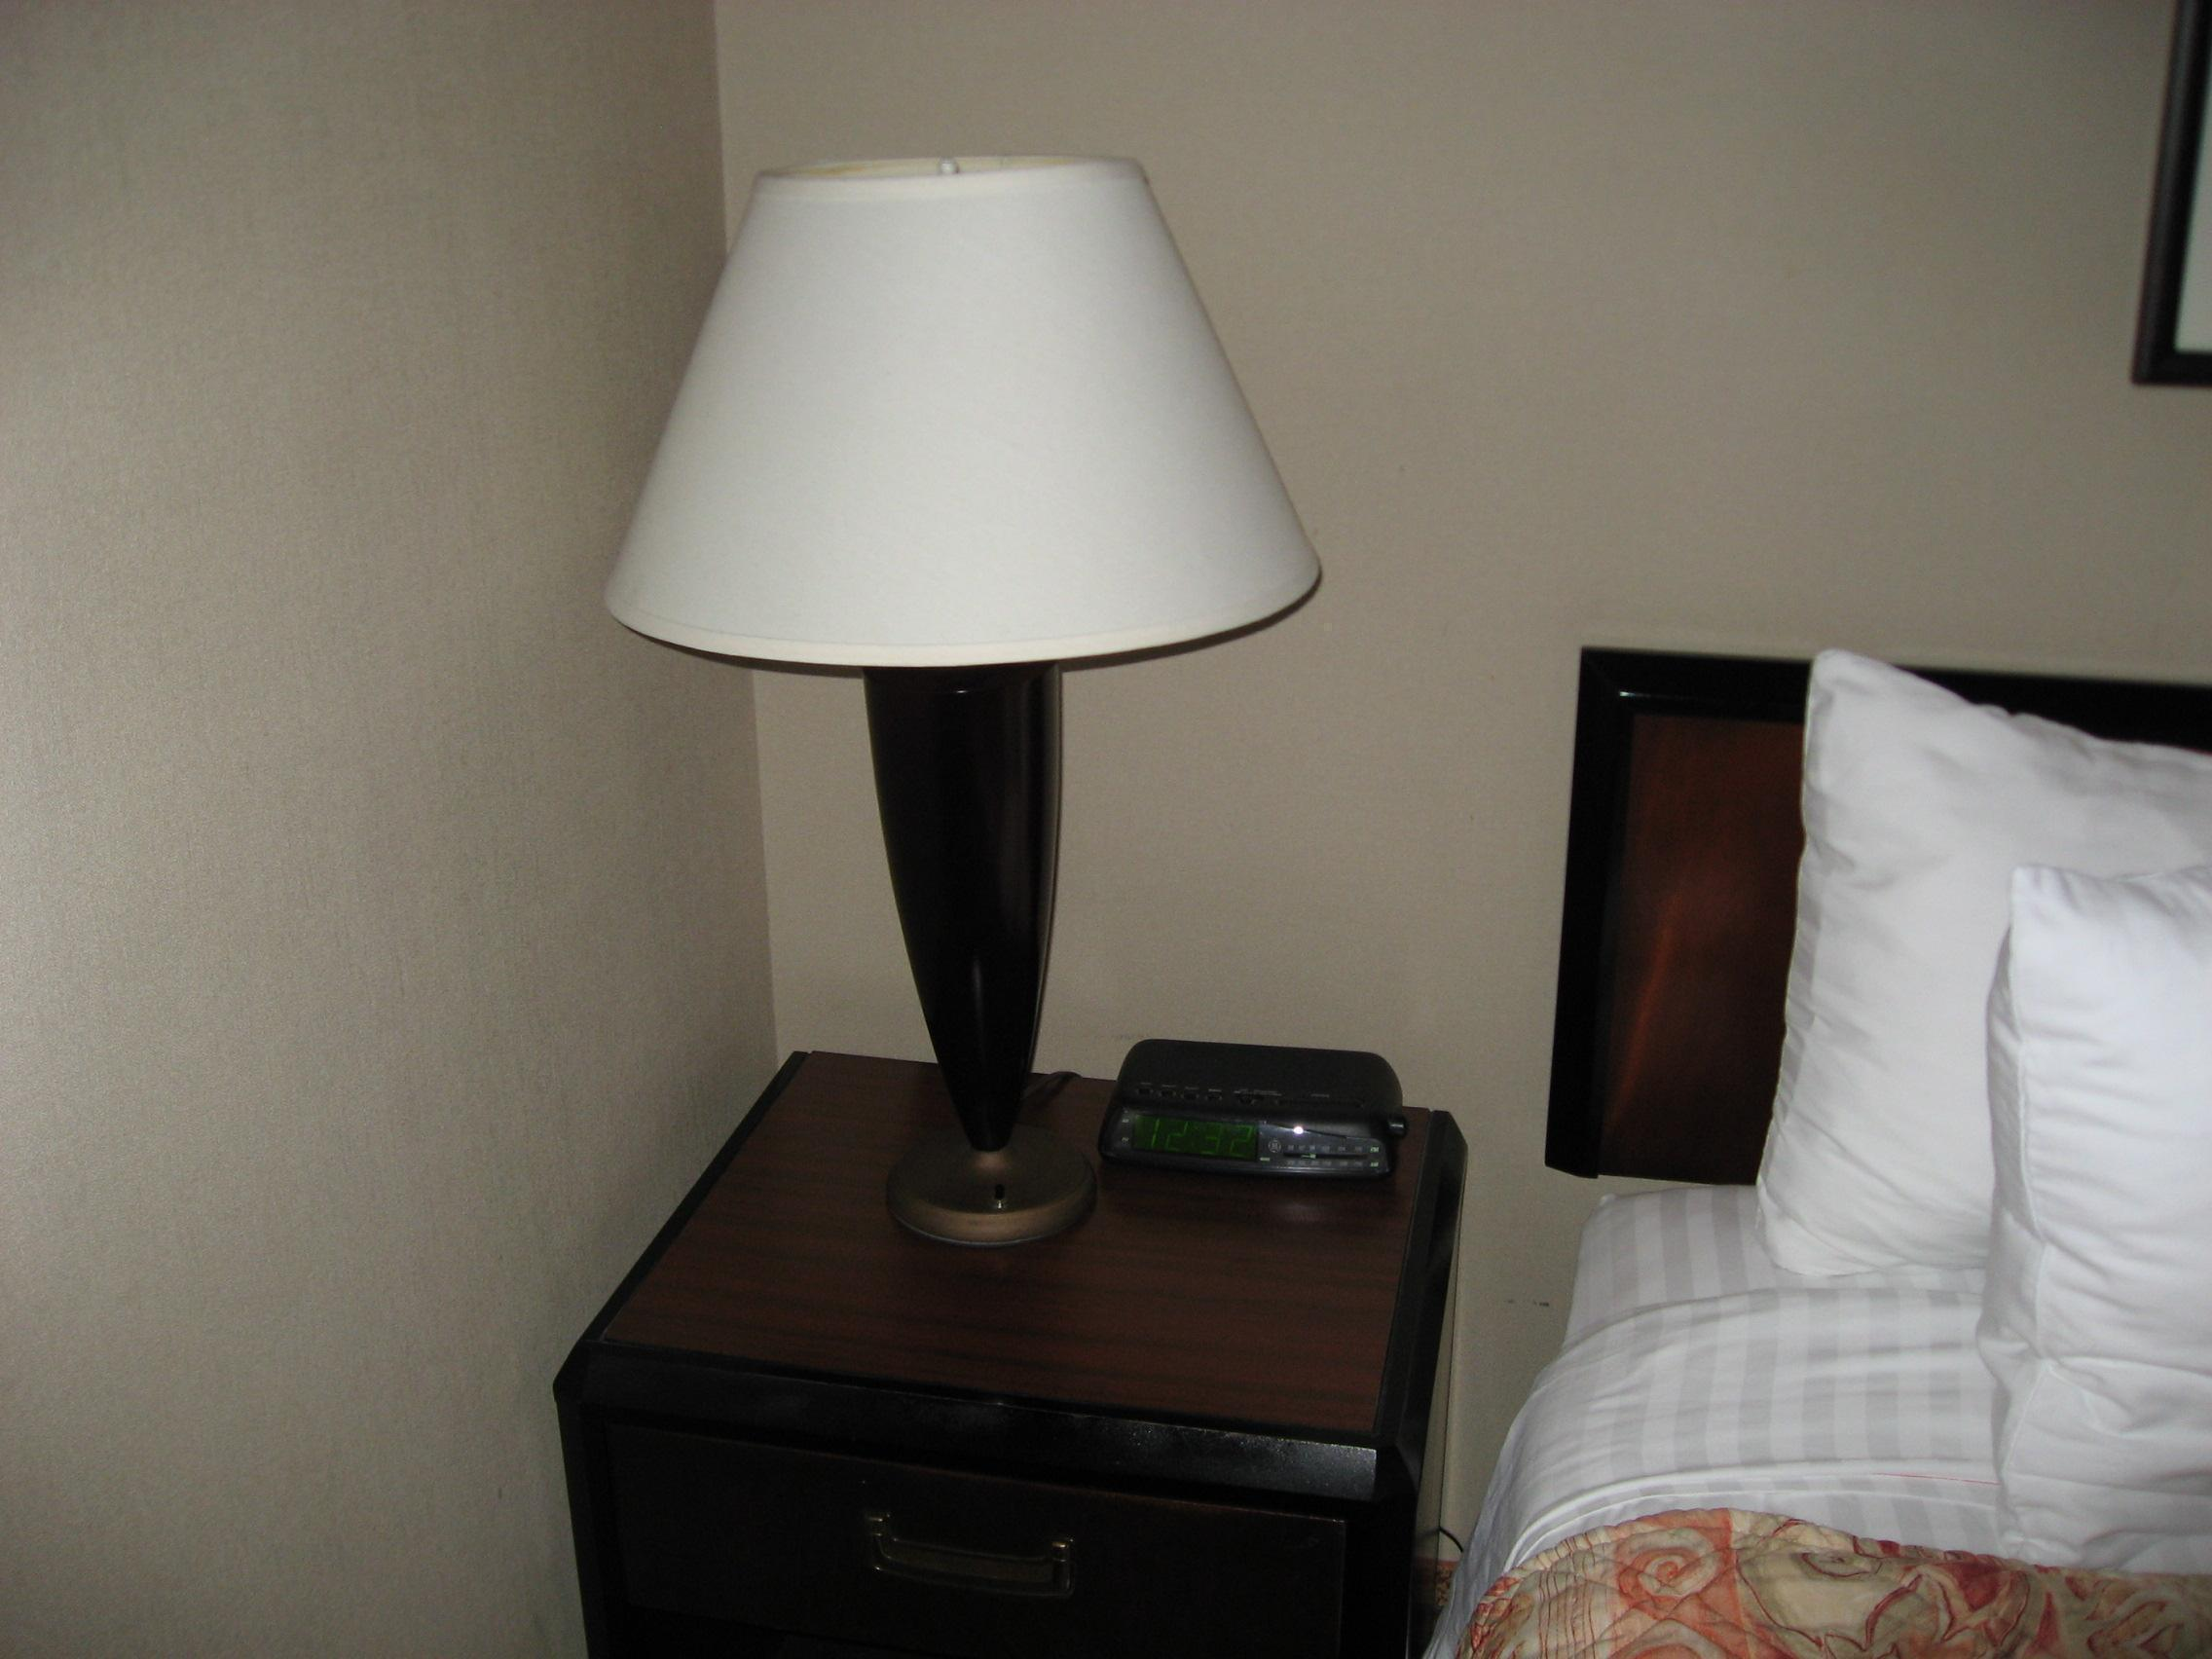Cama: (1554, 619, 2191, 1652)
